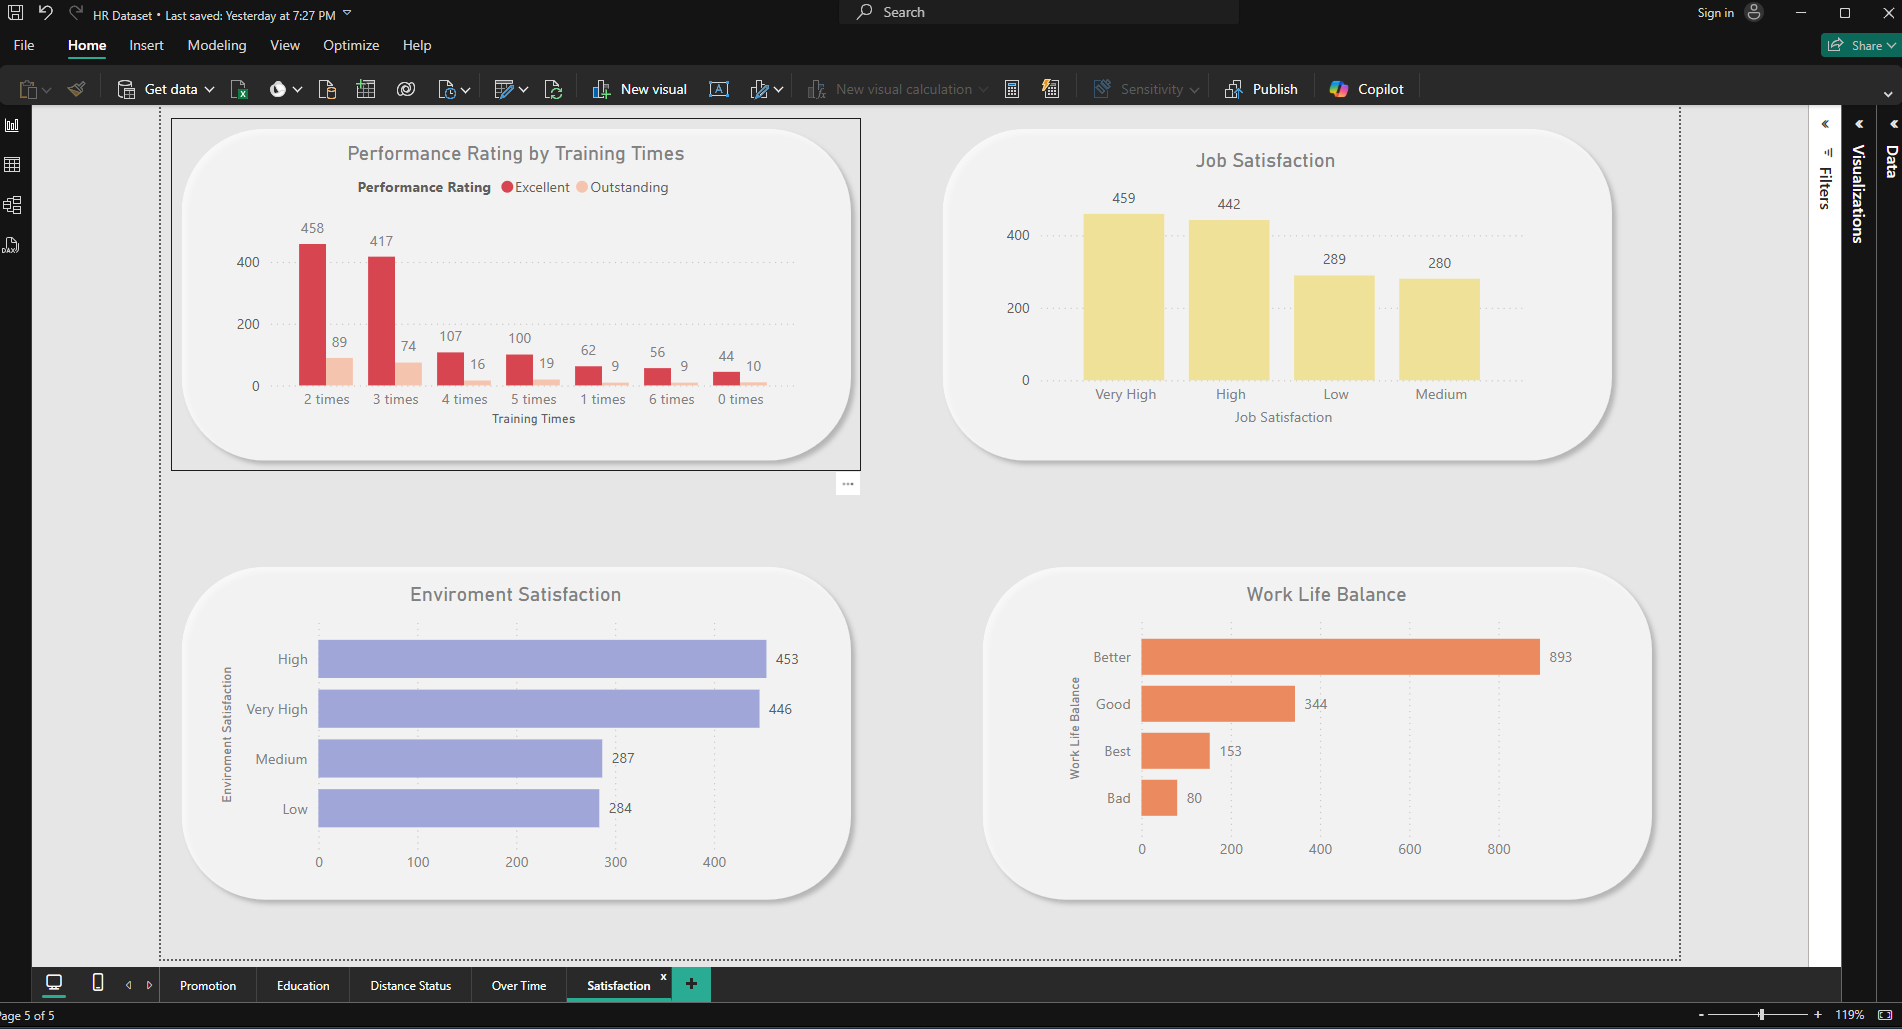

The dashboard page shown, as its layout file describes it:
{"tool":"powerbi","page":{"name":"Satisfaction","canvas":[1280,720],"ordinal":4},"visuals":[{"type":"shape","box":[8,10.7,582.3,297.8],"z":1},{"type":"clusteredColumnChart","title":"Performance Rating by Training Times","fields":{"Category":["HR-Employee-Attrition.Training Times"],"Series":["HR-Employee-Attrition.Performance Rating"],"Y":["new measures.Total Emp"]},"box":[58.1,30.4,482.1,245.1],"z":2},{"type":"shape","box":[650.2,10.7,582.3,297.8],"z":3},{"type":"shape","box":[8,380.1,582.3,298.7],"z":4},{"type":"shape","box":[683.3,380.1,582.3,298.7],"z":5},{"type":"clusteredColumnChart","title":"Job Satisfaction","fields":{"Category":["HR-Employee-Attrition.Job Satisfaction"],"Y":["new measures.Total Emp"]},"box":[707.5,36.7,448.1,238.8],"z":6},{"type":"clusteredBarChart","title":"Enviroment Satisfaction","fields":{"Category":["HR-Employee-Attrition.Enviroment Satisfaction"],"Y":["new measures.Total Emp"]},"box":[44.7,402.5,508.9,254],"z":7},{"type":"barChart","title":"Work Life Balance","fields":{"Category":["HR-Employee-Attrition.Work Life Balance"],"Y":["new measures.Total Emp"]},"box":[759.4,402.5,446.3,243.3],"z":8}]}

Visuals, with their boxes on the page's 1280x720 design canvas (x1, y1, x2, y2). These are canvas units, not pixel positions in the 1902x1029 screenshot, which may show the page scaled, cropped or inside an application window:
shape: bbox=(8, 11, 590, 308)
"Performance Rating by Training Times" clusteredColumnChart: bbox=(58, 30, 540, 276)
shape: bbox=(650, 11, 1232, 308)
shape: bbox=(8, 380, 590, 679)
shape: bbox=(683, 380, 1266, 679)
"Job Satisfaction" clusteredColumnChart: bbox=(708, 37, 1156, 276)
"Enviroment Satisfaction" clusteredBarChart: bbox=(45, 402, 554, 656)
"Work Life Balance" barChart: bbox=(759, 402, 1206, 646)
